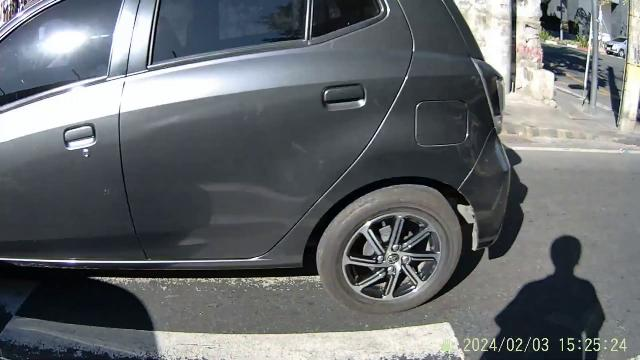car: (1, 0, 534, 318)
